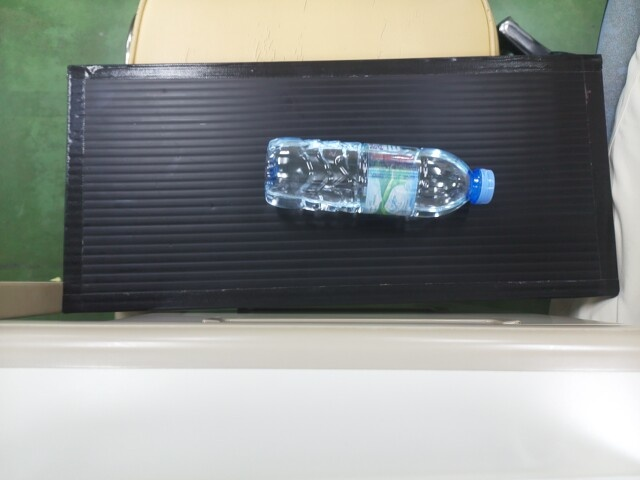plastic_bottle: (268, 139, 493, 218)
